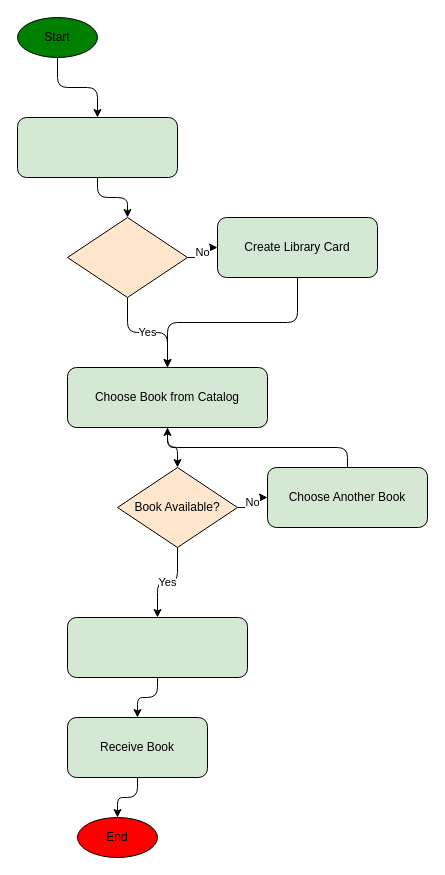
Some shapes in this 445 by 875 pixel diagram are drawn without their labels. The shapes that lost their labels are listed below. From the top down, each one's centre as x and y in pixels, then its label:
At (97,147): "Check Library Card".
At (127,257): "Library Card?".
At (157,647): "Register Book Issue".
